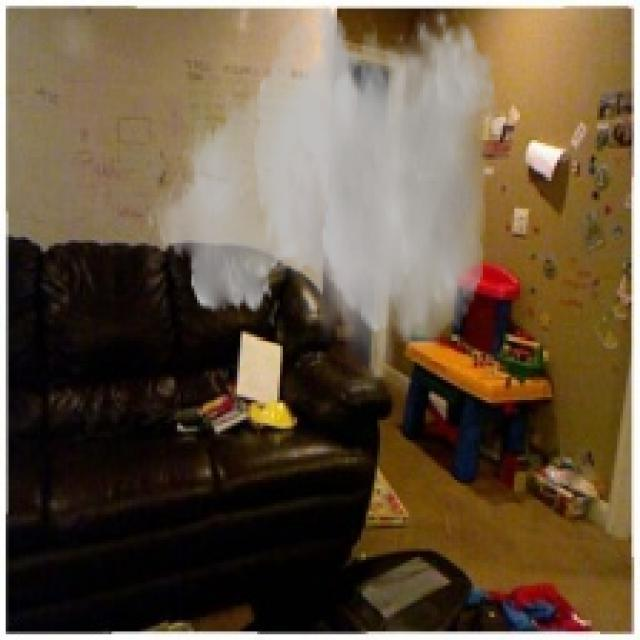Smoke: (146, 2, 497, 398)
